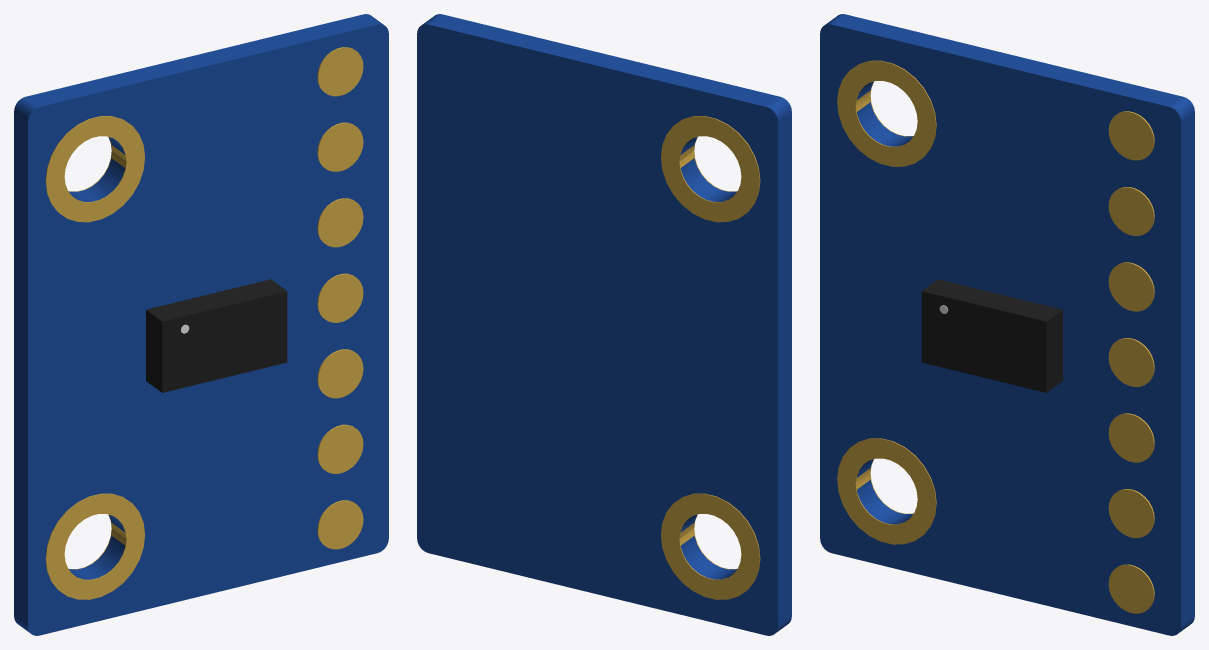
Rendered from pololu-3415-vl53l1x.glb.
The picture shows the model from 3 angles, left to right: view 1: azimuth 30°, elevation 25°; view 2: azimuth 150°, elevation 25°; view 3: azimuth 330°, elevation 25°; orthographic projection.
Parts seen in each view (by area): view 1: board, sensor, hole_2, hole_1, pads_1_3, pads_1_5, pads_1_7, pads_1_1, pads_1_4, pads_1_6, pads_1_2; view 2: board, hole_2, hole_1; view 3: board, sensor, hole_2, hole_1, pads_1_3, pads_1_5, pads_1_1, pads_1_7, pads_1_2, pads_1_4, pads_1_6.
Part boxes in pixels (<box>): board: <box>14,14,388,635</box>; sensor: <box>146,279,287,392</box>; hole_2: <box>45,493,144,599</box>; hole_1: <box>45,116,144,222</box>; pads_1_3: <box>317,349,363,398</box>; pads_1_5: <box>317,198,363,247</box>; pads_1_7: <box>317,47,363,96</box>; pads_1_1: <box>317,500,363,549</box>; pads_1_4: <box>317,273,363,322</box>; pads_1_6: <box>317,122,363,171</box>; pads_1_2: <box>317,424,363,473</box>; board: <box>417,14,791,635</box>; hole_2: <box>661,493,760,599</box>; hole_1: <box>661,116,760,222</box>; board: <box>820,14,1194,635</box>; sensor: <box>921,279,1062,392</box>; hole_2: <box>837,438,936,544</box>; hole_1: <box>837,60,936,166</box>; pads_1_3: <box>1108,413,1154,462</box>; pads_1_5: <box>1108,262,1154,311</box>; pads_1_1: <box>1108,564,1154,613</box>; pads_1_7: <box>1108,111,1154,160</box>; pads_1_2: <box>1108,489,1154,537</box>; pads_1_4: <box>1108,338,1154,386</box>; pads_1_6: <box>1108,187,1154,235</box>.
Size of the model in its own units: 12.7 by 17.78 by 1.9.
